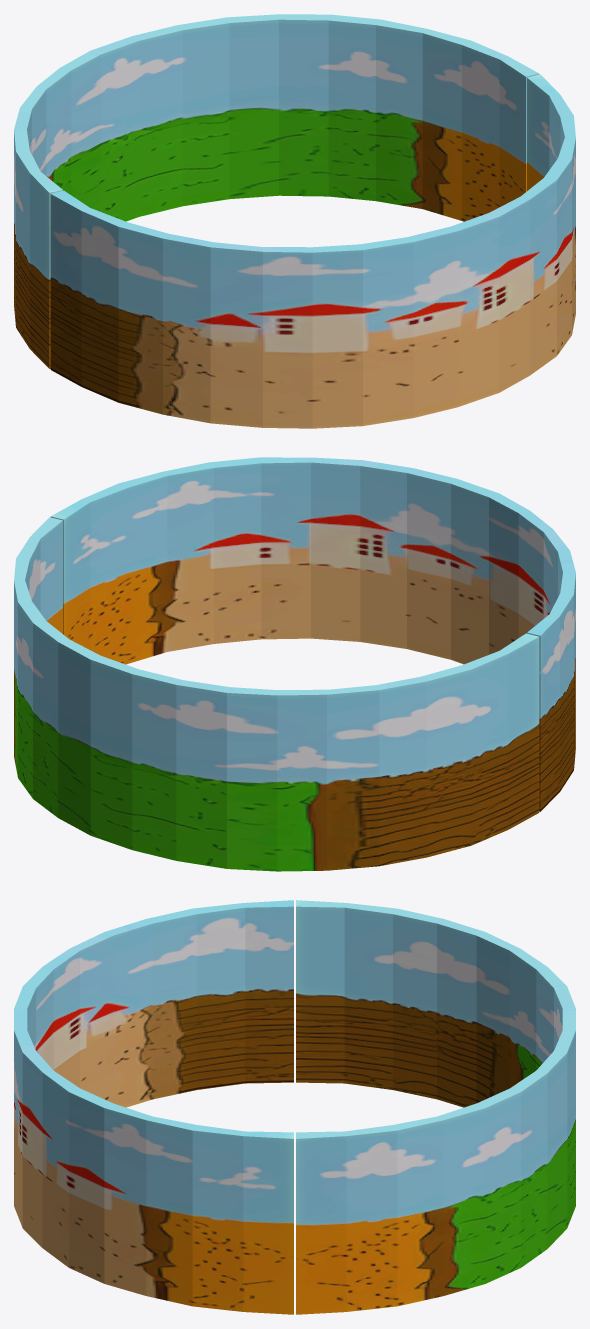
The model's file is Teri.glb.
3 views of the same model, one above another, from view 1: azimuth 30°, elevation 25°; view 2: azimuth 150°, elevation 25°; view 3: azimuth 270°, elevation 25° (orthographic).
Visible parts, largest first — view 1: Teri; view 2: Teri; view 3: Teri.
Boxes of the visible parts, x1,y1,x2,y2 form: Teri: [14, 14, 575, 428]; Teri: [14, 457, 575, 871]; Teri: [14, 900, 575, 1314].
Size of the model in its own units: 379 by 130 by 377.
1 material, 1 textured.
